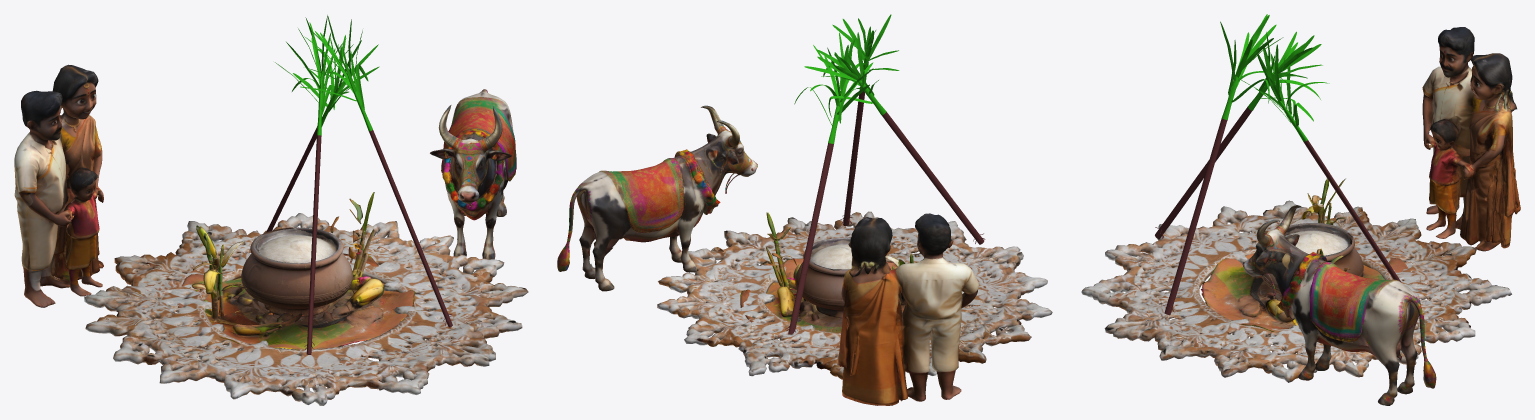
File: asset.glb
3 views of the same model, side by side, from view 1: azimuth 30°, elevation 25°; view 2: azimuth 150°, elevation 25°; view 3: azimuth 270°, elevation 25° (orthographic). The views are drawn at different scales.
Parts seen in each view (by area): view 1: Mesh_0.003, Mesh_0.007, Mesh_0, Mesh_0.002, ImageToStl.com_sugercane.001, ImageToStl.com_sugercane.004, ImageToStl.com_sugercane.003; view 2: Mesh_0.003, Mesh_0, Mesh_0.002, Mesh_0.007, ImageToStl.com_sugercane.004, ImageToStl.com_sugercane.003, ImageToStl.com_sugercane.001; view 3: Mesh_0.003, Mesh_0, Mesh_0.002, Mesh_0.007, ImageToStl.com_sugercane.001, ImageToStl.com_sugercane.004, ImageToStl.com_sugercane.003.
Part boxes in pixels (left/top/right/bottom): Mesh_0.003: left=84, top=213, right=528, bottom=405; Mesh_0.007: left=177, top=192, right=415, bottom=349; Mesh_0: left=14, top=64, right=103, bottom=307; Mesh_0.002: left=430, top=89, right=516, bottom=259; ImageToStl.com_sugercane.001: left=300, top=15, right=452, bottom=327; ImageToStl.com_sugercane.004: left=275, top=16, right=353, bottom=354; ImageToStl.com_sugercane.003: left=266, top=35, right=379, bottom=231; Mesh_0.003: left=657, top=211, right=1052, bottom=379; Mesh_0: left=838, top=213, right=979, bottom=405; Mesh_0.002: left=557, top=105, right=757, bottom=291; Mesh_0.007: left=740, top=212, right=918, bottom=342; ImageToStl.com_sugercane.004: left=804, top=32, right=985, bottom=244; ImageToStl.com_sugercane.003: left=785, top=32, right=873, bottom=334; ImageToStl.com_sugercane.001: left=823, top=14, right=899, bottom=225; Mesh_0.003: left=1081, top=200, right=1511, bottom=382; Mesh_0: left=1422, top=27, right=1520, bottom=251; Mesh_0.002: left=1242, top=205, right=1436, bottom=405; Mesh_0.007: left=1201, top=178, right=1421, bottom=331; ImageToStl.com_sugercane.001: left=1163, top=14, right=1290, bottom=315; ImageToStl.com_sugercane.004: left=1155, top=31, right=1322, bottom=239; ImageToStl.com_sugercane.003: left=1241, top=43, right=1401, bottom=282.
Bounding box in the file's own units: 90.33 × 56.53 × 78.27.
6 materials, 4 textured.
